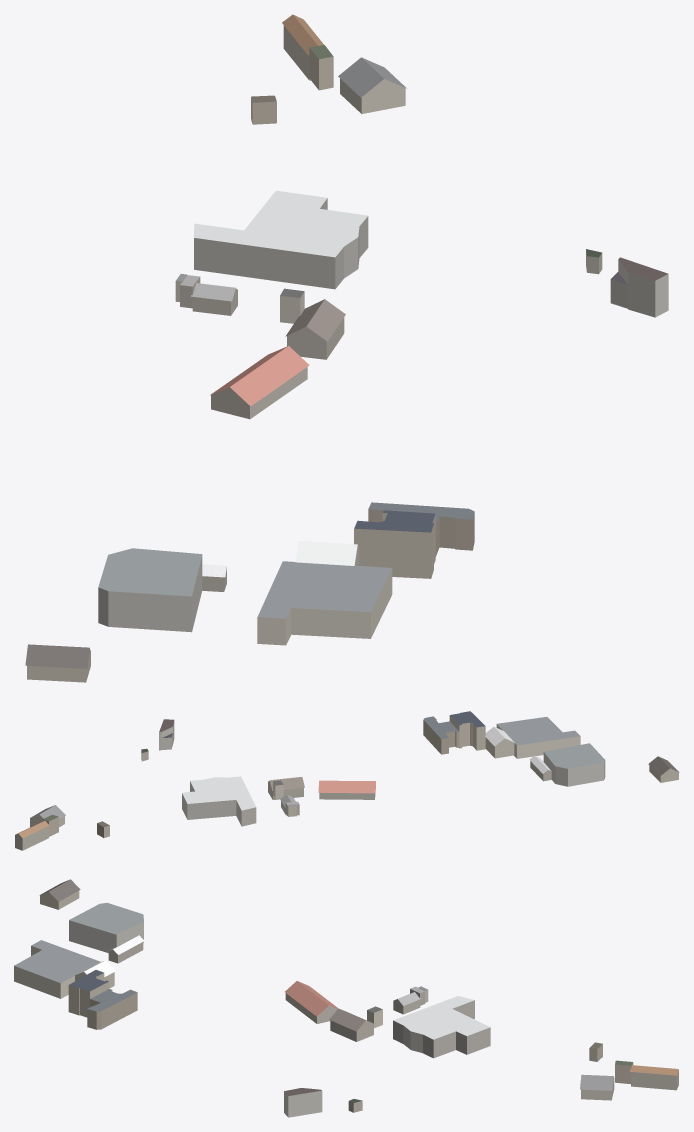
The picture shows the model from 3 angles, top to bottom: view 1: azimuth 30°, elevation 25°; view 2: azimuth 150°, elevation 25°; view 3: azimuth 270°, elevation 25°; orthographic projection. The views are drawn at different scales.
Visible parts, largest first — view 1: tuile; view 2: tuile; view 3: tuile.
Boxes of the visible parts, bbox=[...] form: tuile: bbox=[25, 14, 668, 682]; tuile: bbox=[15, 711, 679, 850]; tuile: bbox=[14, 879, 678, 1117].
Size of the model in its own units: 224 by 23.16 by 264.
